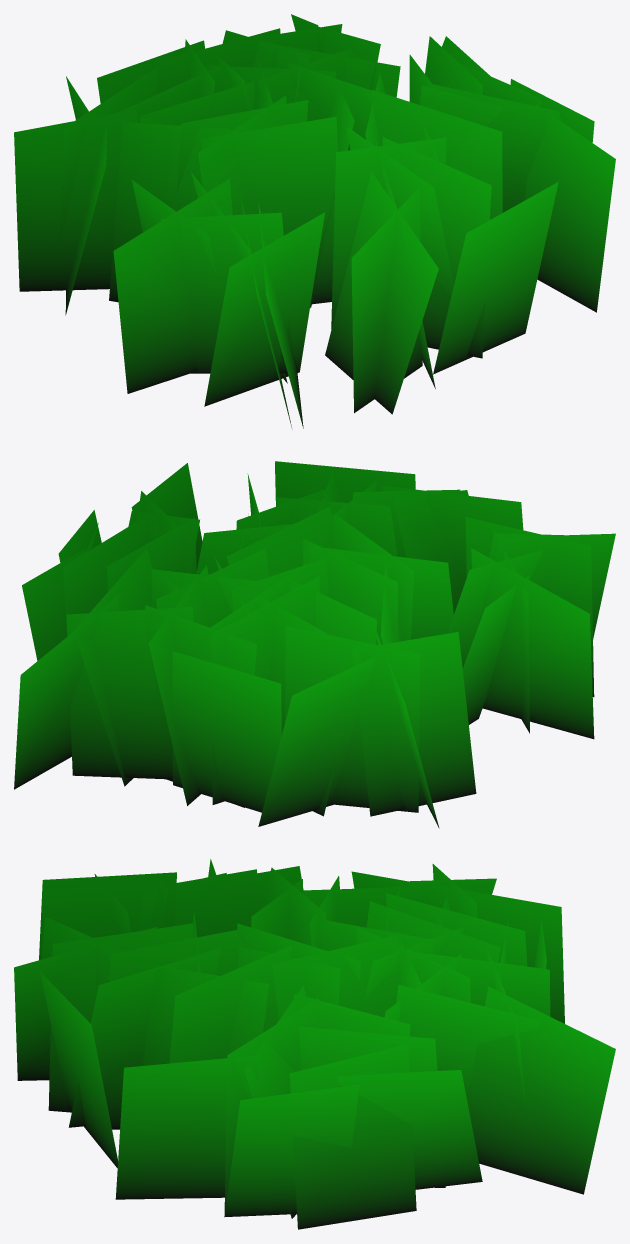
File: IL3DN_Plant_Grass_02.fbx
3 views of the same model, one above another, from view 1: azimuth 30°, elevation 25°; view 2: azimuth 150°, elevation 25°; view 3: azimuth 270°, elevation 25° (orthographic). The views are drawn at different scales.
Visible parts, largest first — view 1: IL3DN_Plant_Grass_02_LOD0; view 2: IL3DN_Plant_Grass_02_LOD0; view 3: IL3DN_Plant_Grass_02_LOD0.
Boxes of the visible parts, box(x1,y1,x2,y2) form: IL3DN_Plant_Grass_02_LOD0: box(14, 14, 615, 428); IL3DN_Plant_Grass_02_LOD0: box(14, 461, 615, 828); IL3DN_Plant_Grass_02_LOD0: box(14, 859, 615, 1229).
Size of what is drawn, in the model's own units: 70.07 by 27.3 by 74.47.
